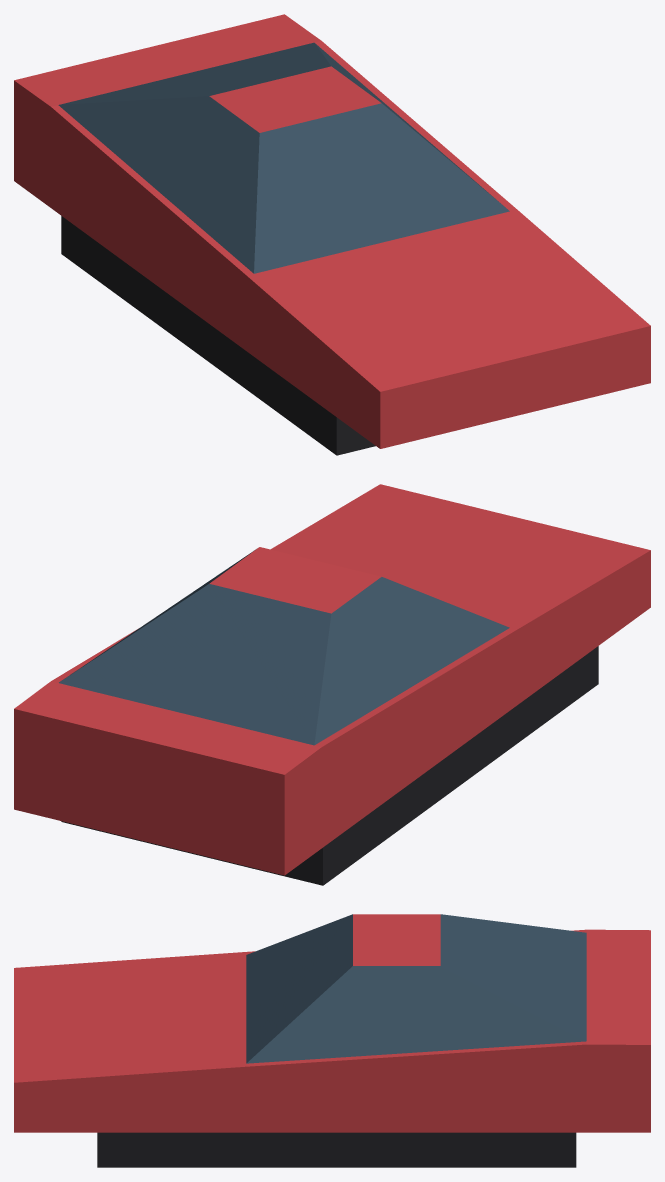
Rendered from 8_far.fbx.
3 renders of one model, top to bottom at view 1: azimuth 30°, elevation 25°; view 2: azimuth 150°, elevation 25°; view 3: azimuth 270°, elevation 25°, orthographic. The views are drawn at different scales.
Visible parts, largest first — view 1: 10_8_far; view 2: 10_8_far; view 3: 10_8_far.
Boxes of the visible parts, box(x1,y1,x2,y2) form: 10_8_far: box(14, 14, 650, 455); 10_8_far: box(14, 484, 650, 885); 10_8_far: box(14, 914, 650, 1167).
Bounding box in the file's own units: 1.86 × 1.3 × 4.36.
